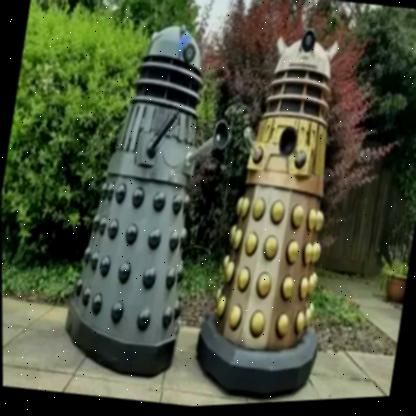dalek: (179, 11, 384, 407), (64, 0, 248, 397)
